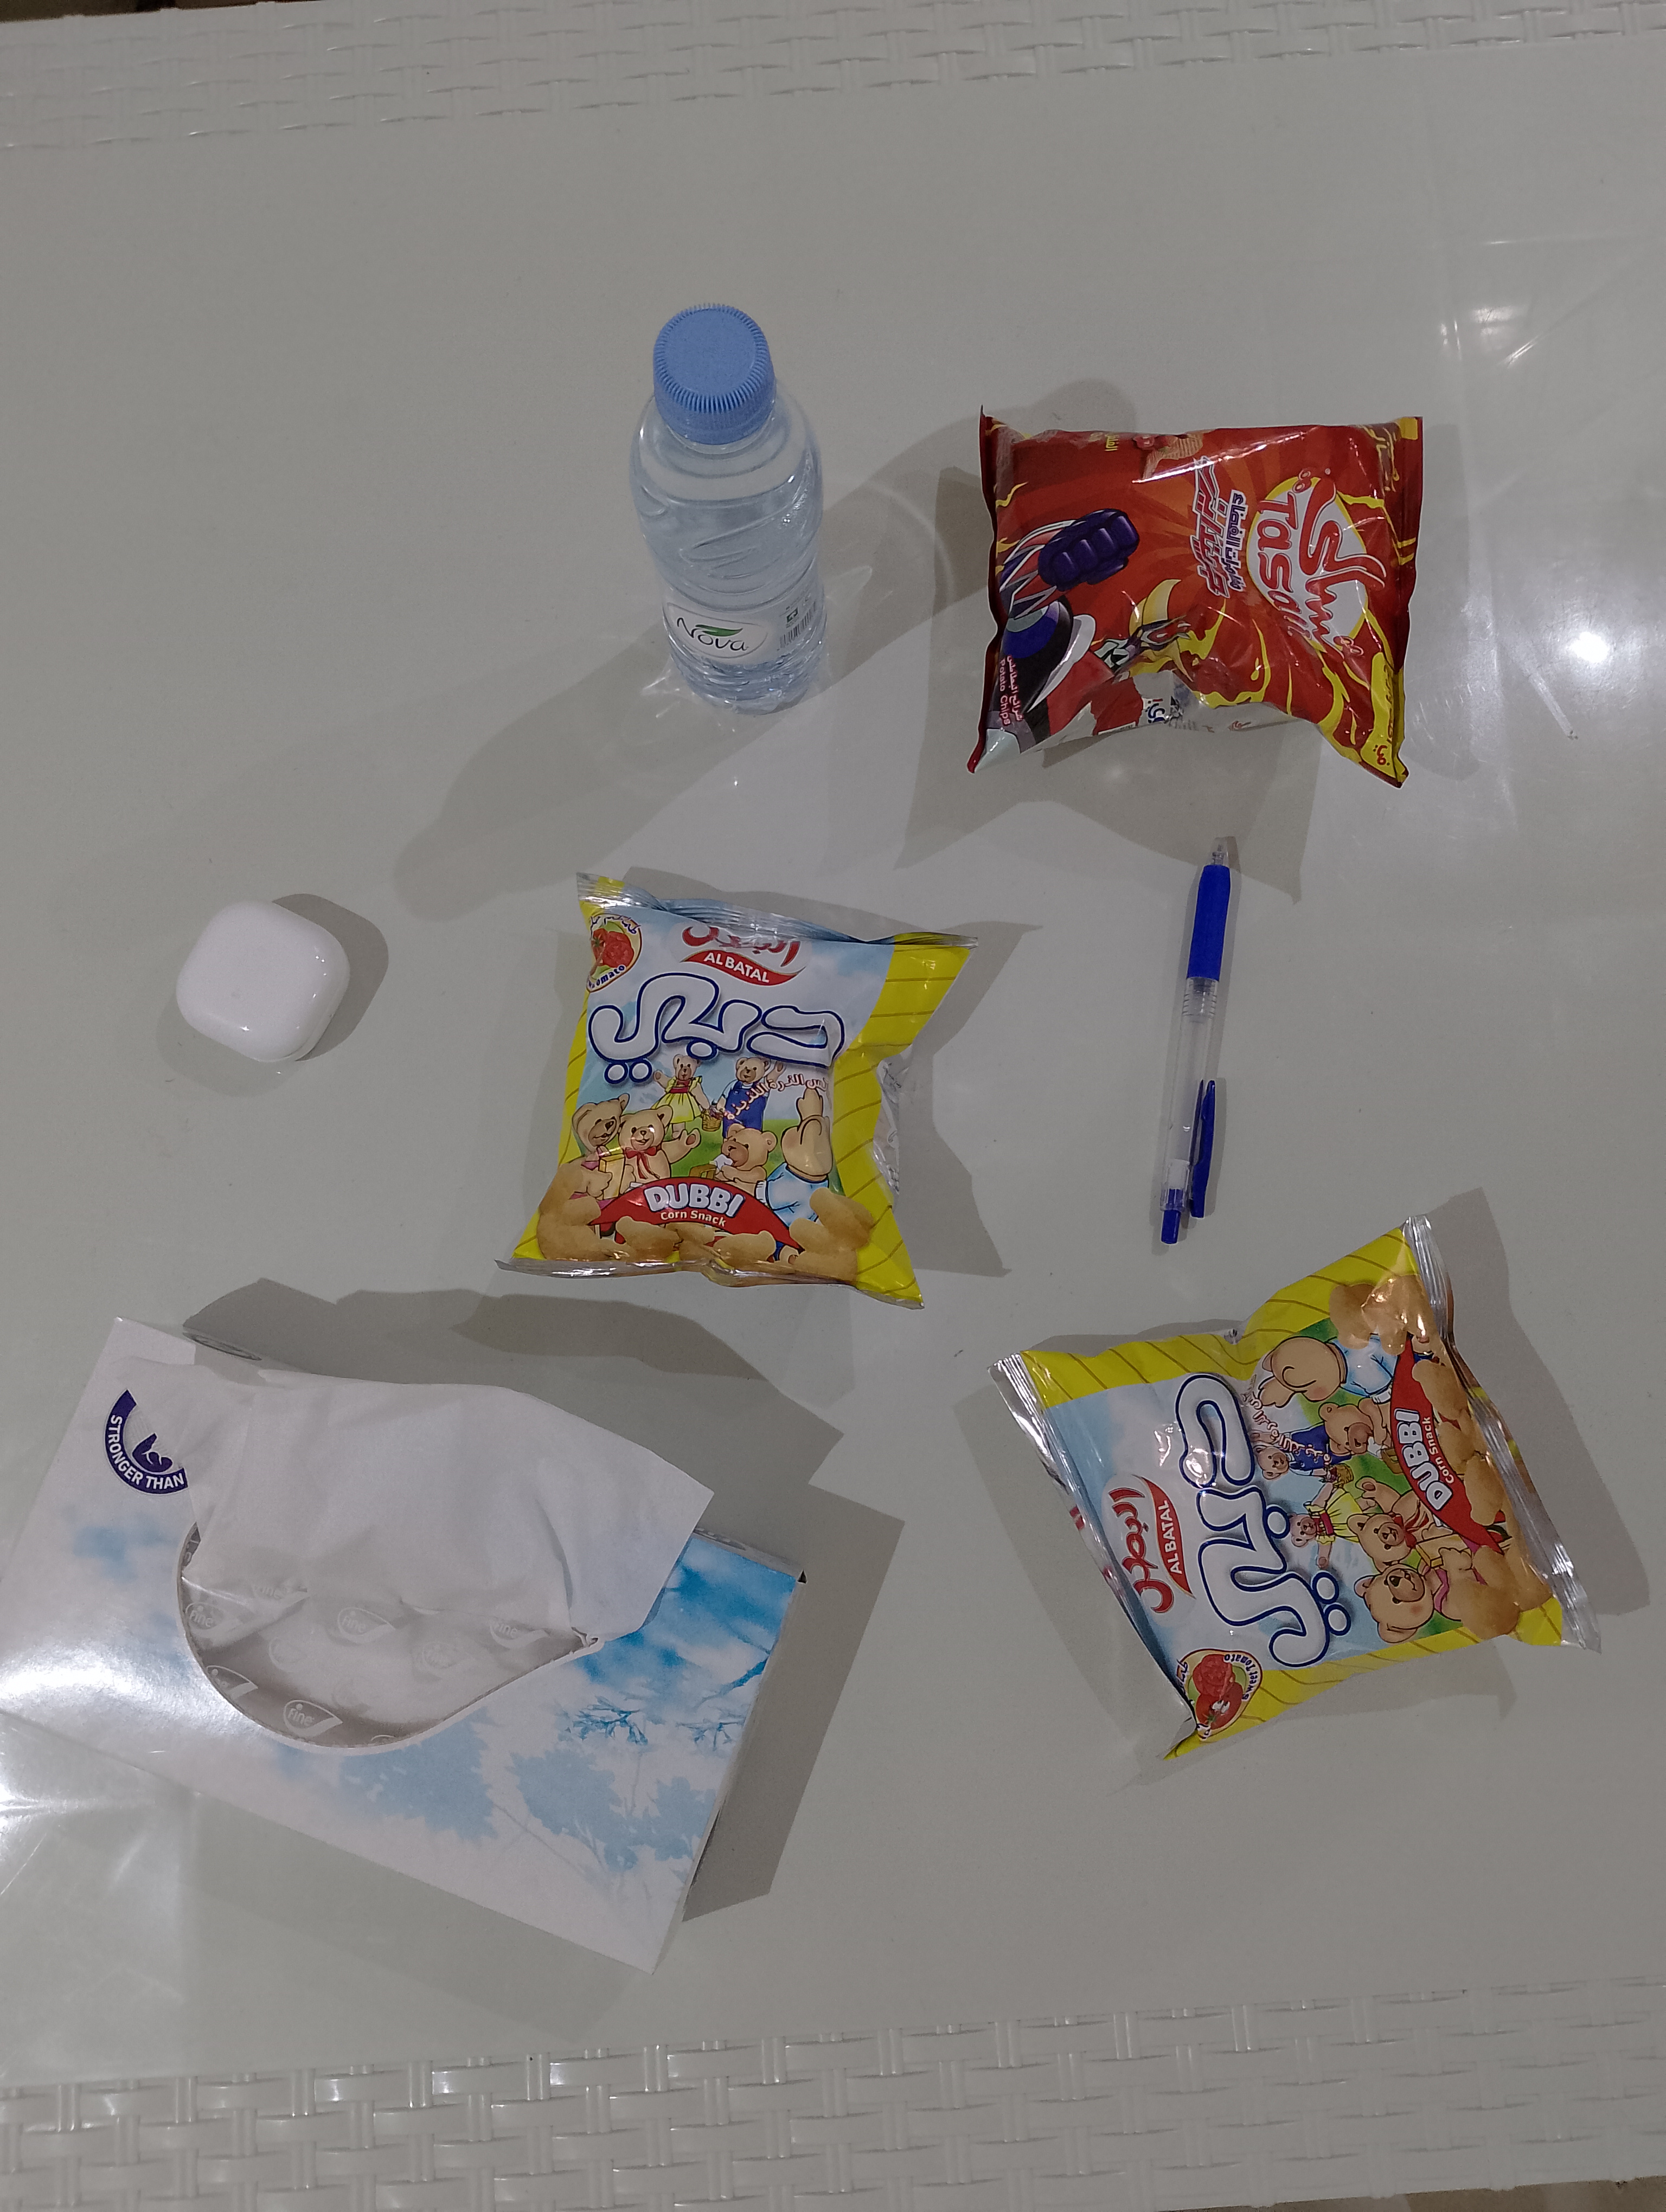albatal_dubbi_corn_snack: (987, 1214, 1601, 1761), (494, 871, 980, 1310)
tasali_hot_chili: (966, 404, 1425, 790)
